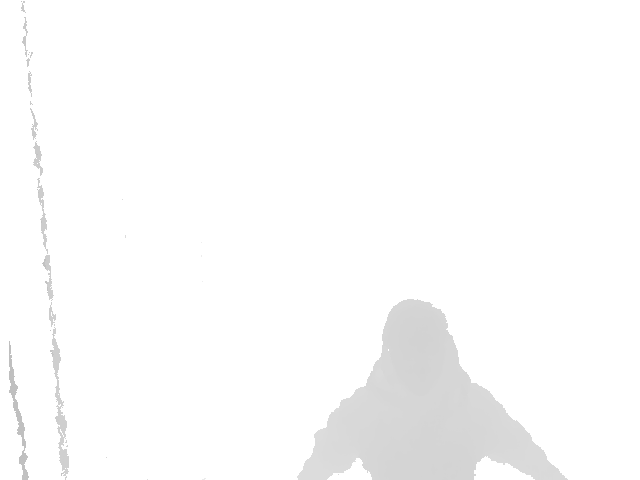head: (382, 299, 452, 402)
person: (298, 300, 569, 480)
